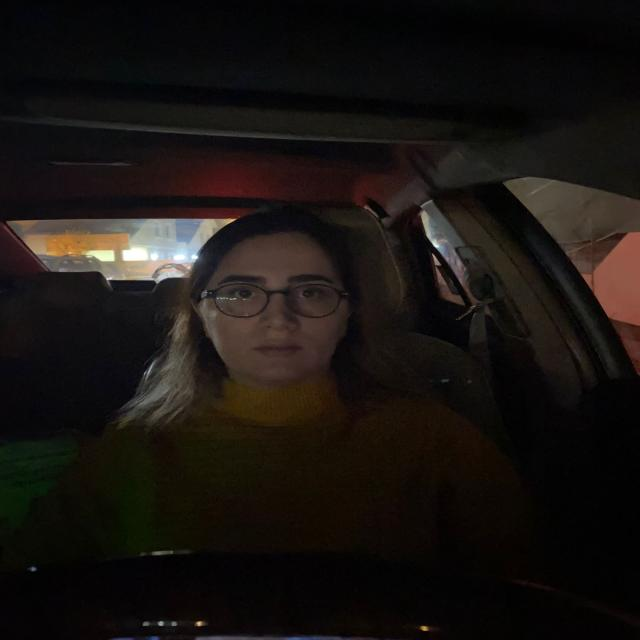person: (190, 224, 368, 385)
